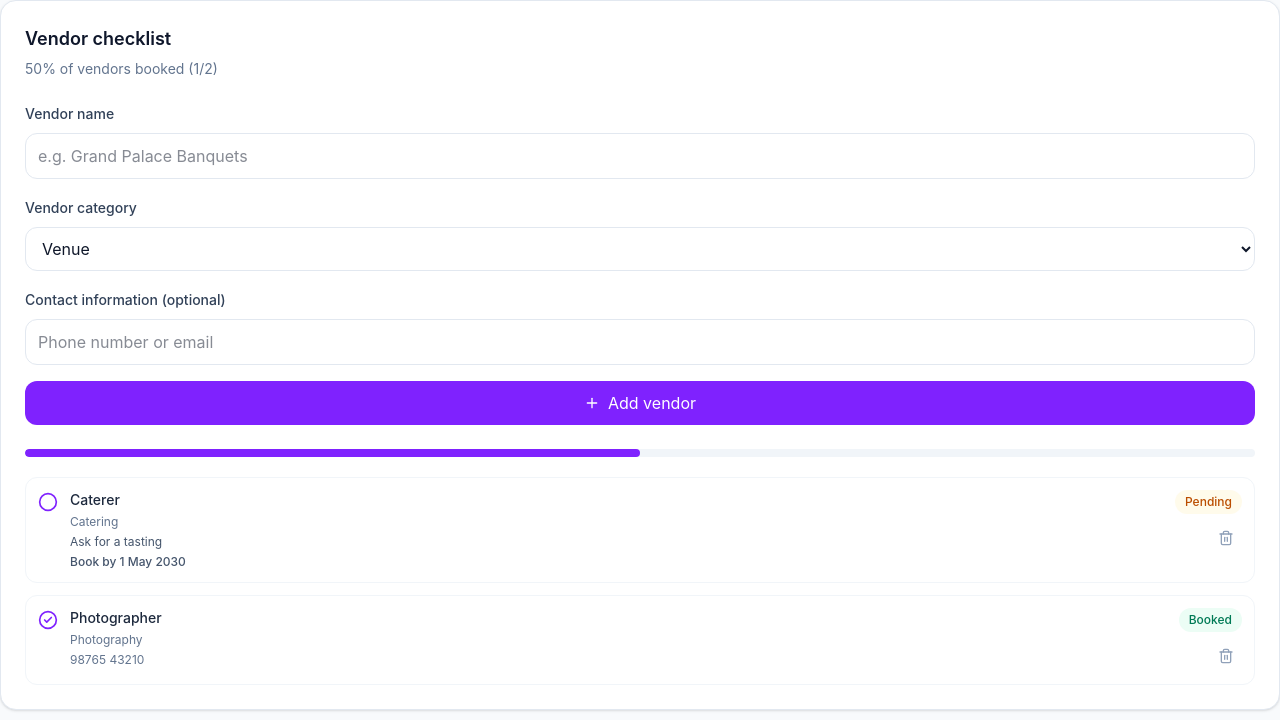
VendorChecklist › toggles booking status and progress
The width and height of the screenshot is (1280, 720).
Click the button named "Mark Caterer booked": [48, 502] box [38,492,58,512]
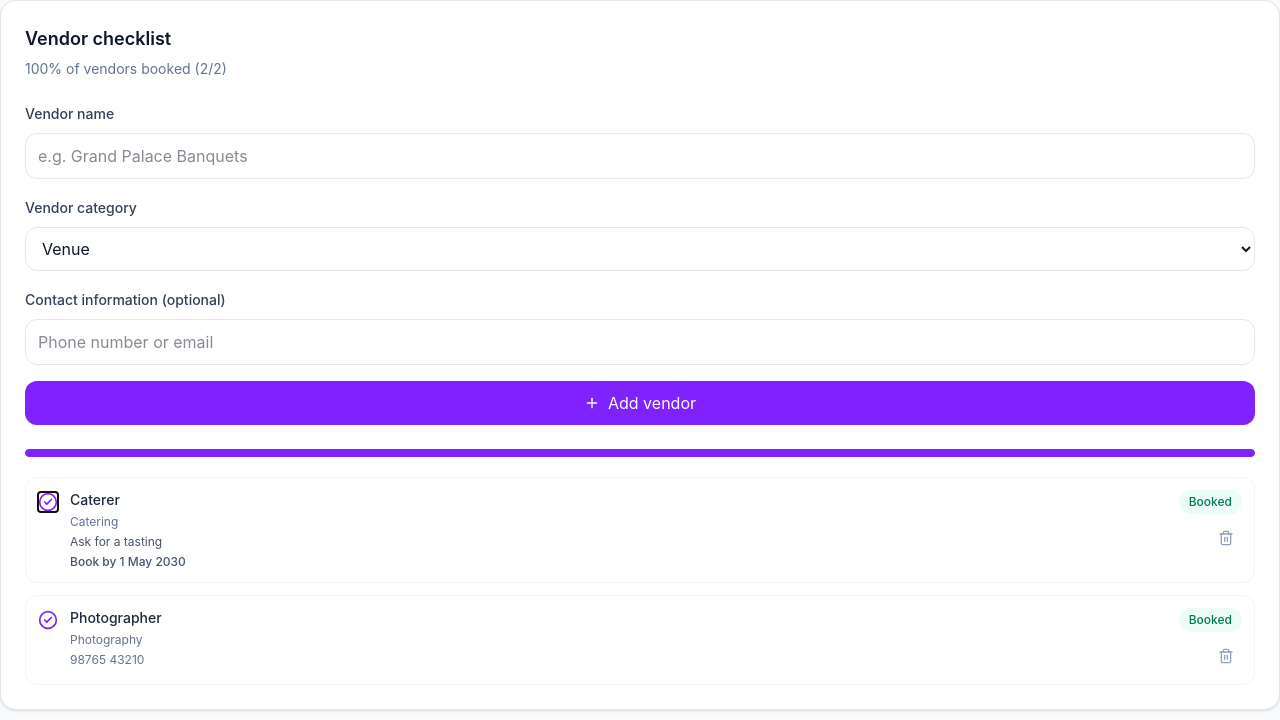
Check: the text "100% of vendors booked (2/2)" is shown, box [25,60,227,77]
Check: the button named "Mark Caterer unbooked" is shown, box [38,492,58,512]
